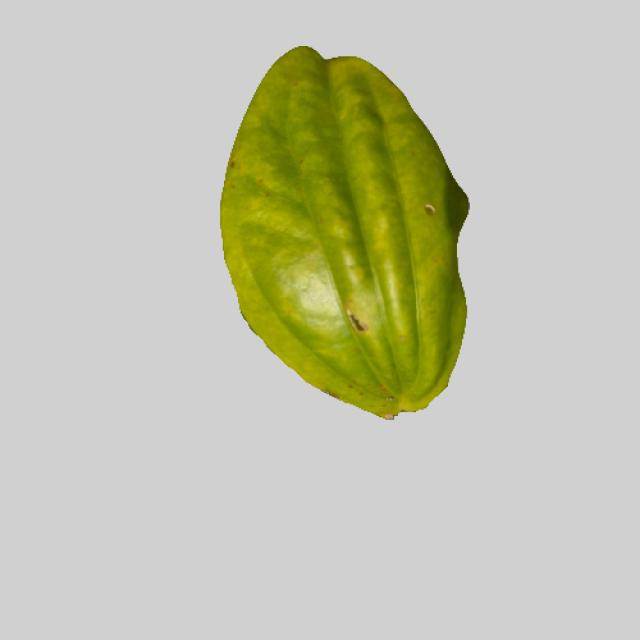yellow-mottle-virus: (201, 42, 477, 420)
